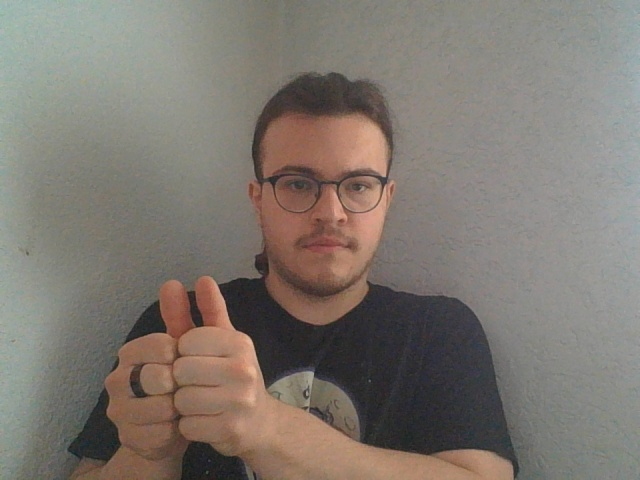Agree: (99, 274, 270, 459)
